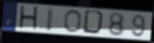8: (107, 12, 125, 37)
9: (131, 14, 146, 38)
D: (82, 9, 107, 36)
H: (18, 5, 39, 32)
I: (45, 7, 55, 32)
O: (64, 9, 83, 34)
